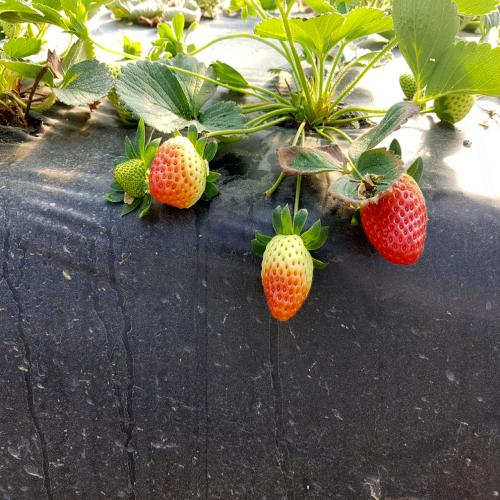partially-ripe: (254, 219, 320, 330), (140, 135, 214, 217)
ripe: (359, 166, 430, 275)
